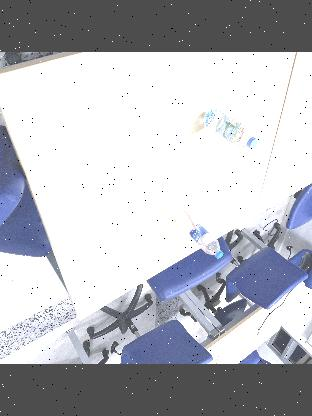Plastic Bottle: (172, 210, 224, 260), (202, 108, 258, 150)
